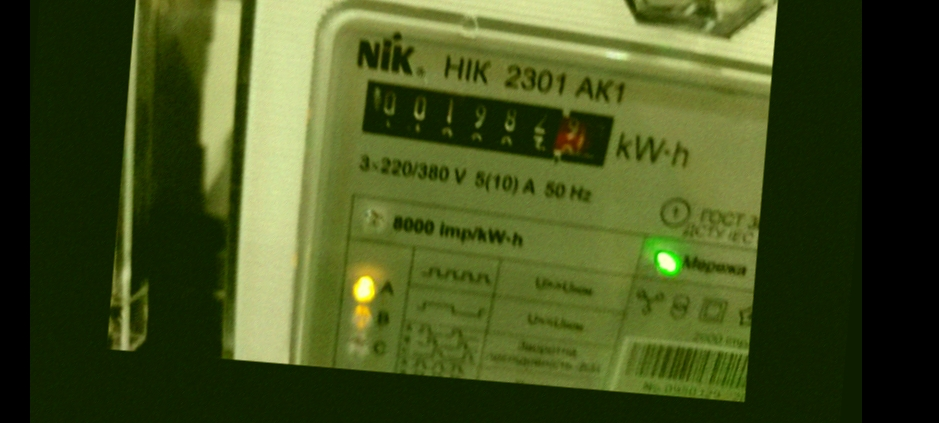0: (412, 92, 431, 123), (382, 87, 400, 117)
1: (443, 95, 458, 125)
2: (533, 105, 553, 136)
8: (503, 104, 521, 133)
9: (563, 114, 586, 144), (472, 100, 489, 131)
screen: (344, 64, 632, 183)
